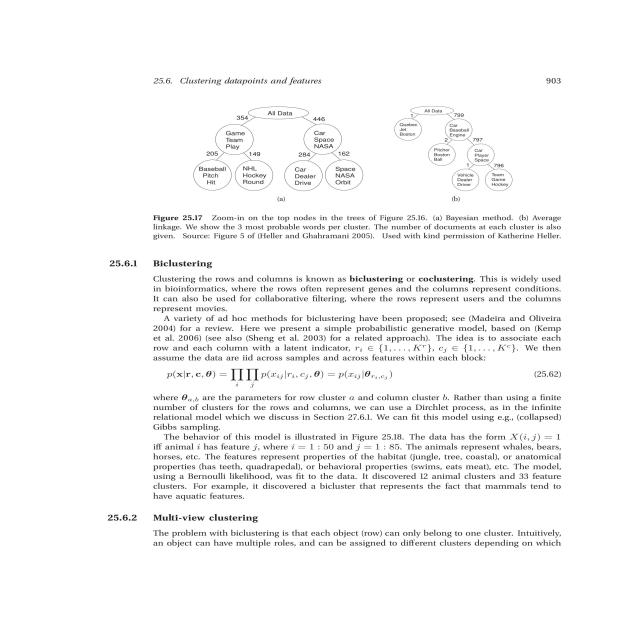diagram: (103, 89, 599, 255)
